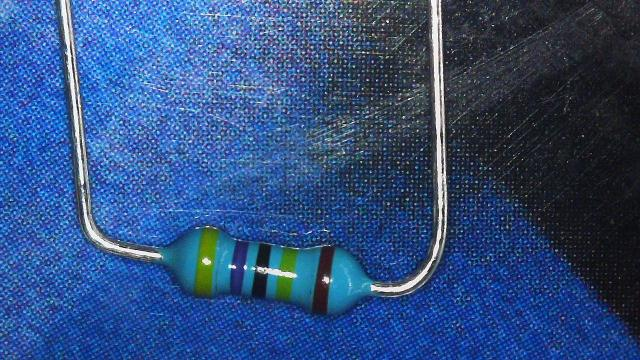black: (252, 243, 271, 297)
brown: (312, 246, 335, 312)
resistor: (158, 216, 378, 327)
violet: (229, 240, 249, 294)
yellow: (194, 226, 220, 296), (276, 248, 298, 301)
